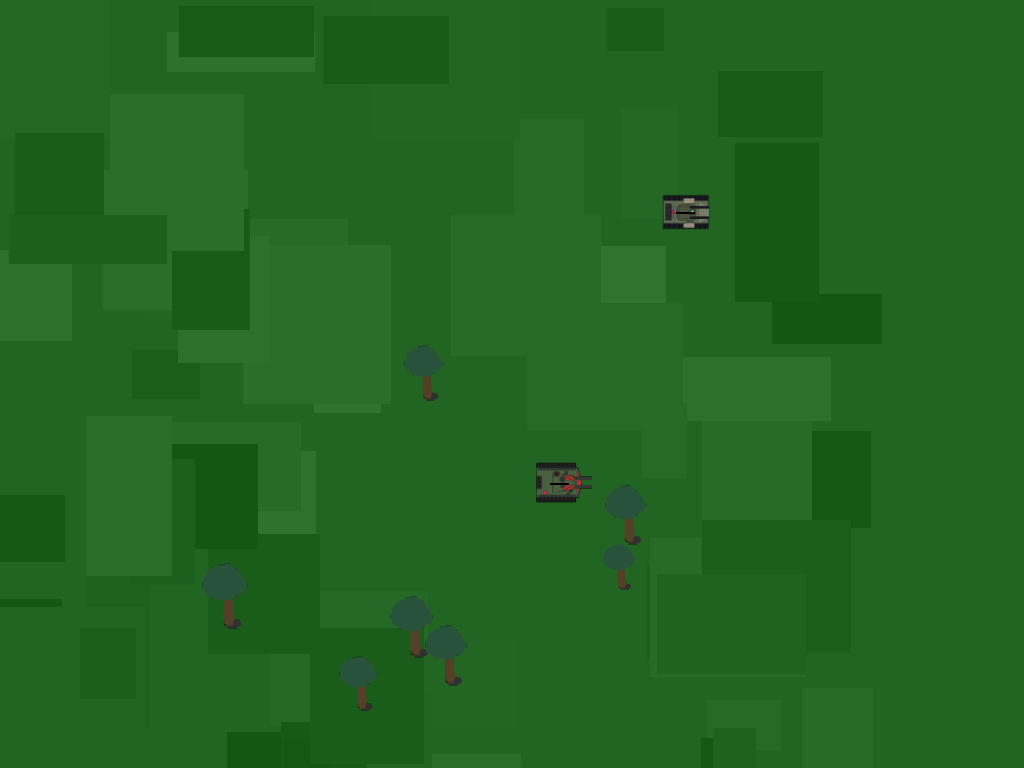APC_chn: (663, 189, 707, 233)
Type99: (534, 457, 582, 505)
